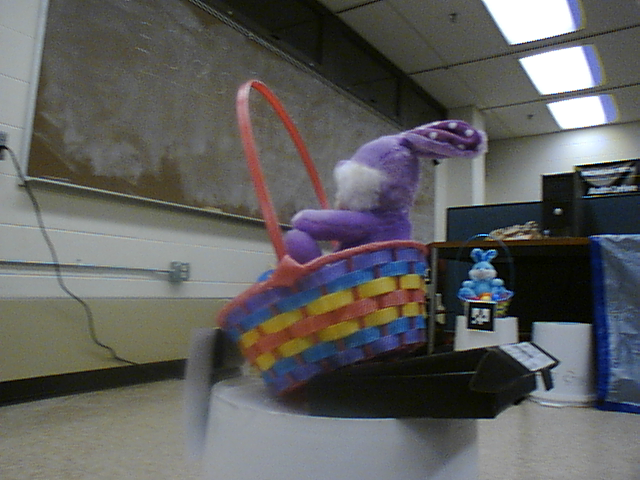bunny: (212, 75, 473, 384), (456, 233, 524, 322)
